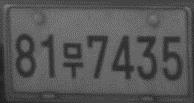1: (40, 33, 56, 79)
3: (135, 34, 158, 80)
4: (110, 34, 134, 79)
5: (161, 35, 183, 81)
7: (85, 33, 108, 79)
8: (15, 33, 36, 78)
무: (62, 41, 84, 81)
